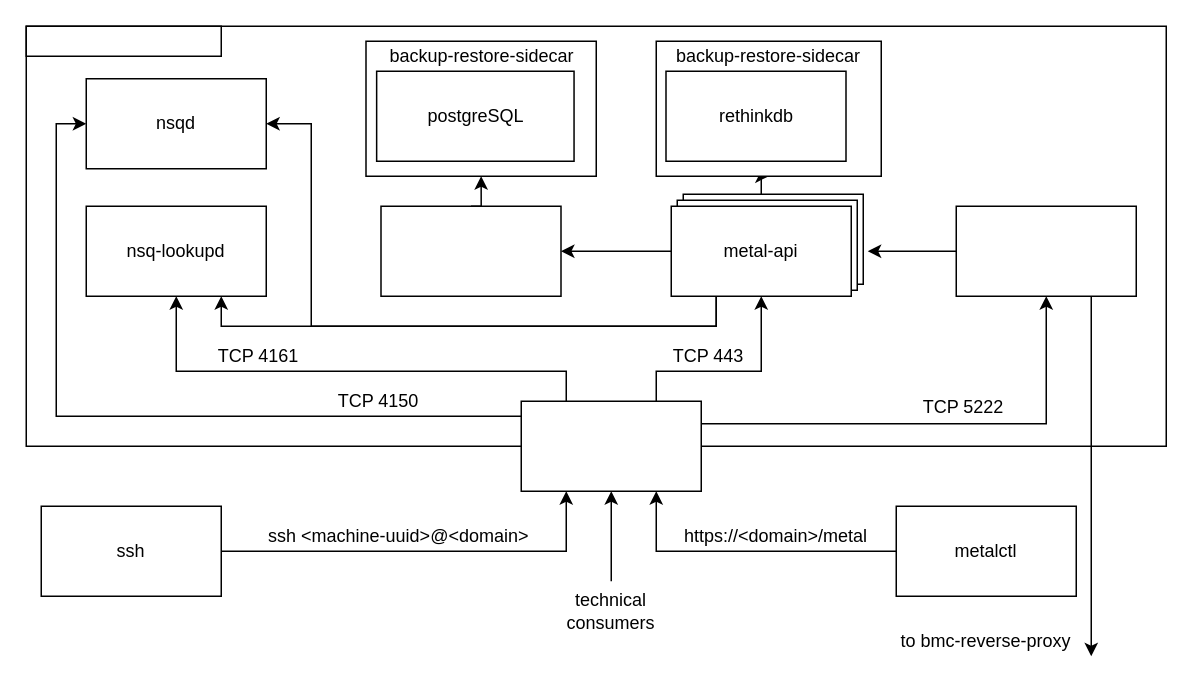
This 1193x698 diagram has some shape labels left out. The centre of each missing label's shape, as x and y in pixels:
"ingress-controller" goes at (610,445).
"masterdata-api" goes at (470,250).
"metal-console" goes at (1045,250).
"metal-control-plane" goes at (123,40).
